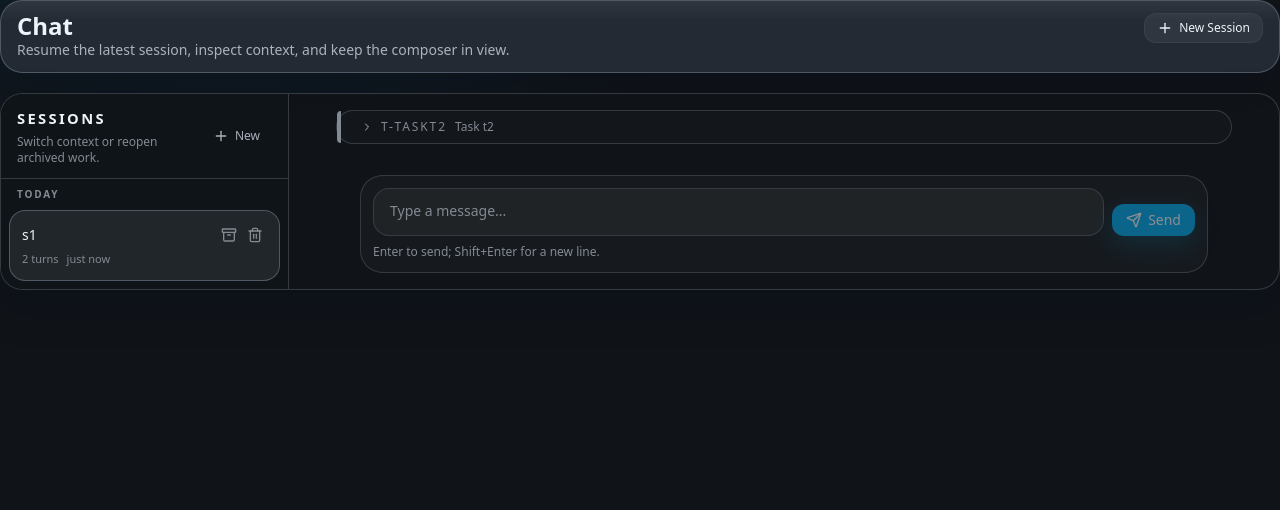
Test: Chat › thread with only result_delivery (no status_report): renders ResultDeliveryCard without status group or lines
Note: Closed thread (result_delivery present) is collapsed by default — click to expand
Click the button with test id "thread-toggle" at (414, 127), box [349, 111, 1231, 143]
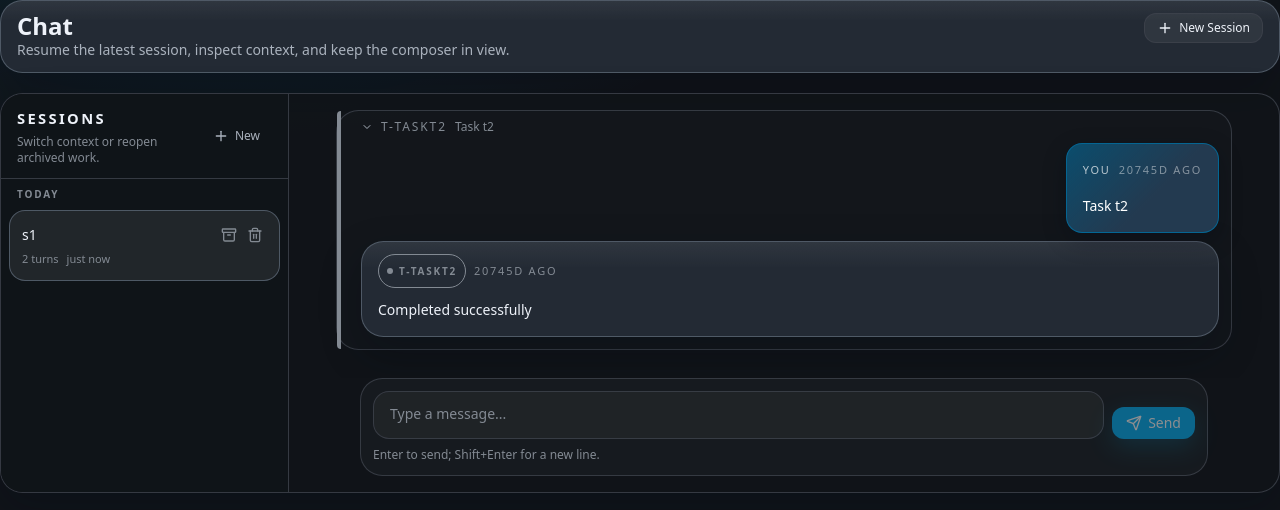
Check: the element with test id "result-delivery-card" is shown, box [361, 241, 1219, 337]
Check: the text "Completed successfully" is shown, box [378, 300, 532, 319]
